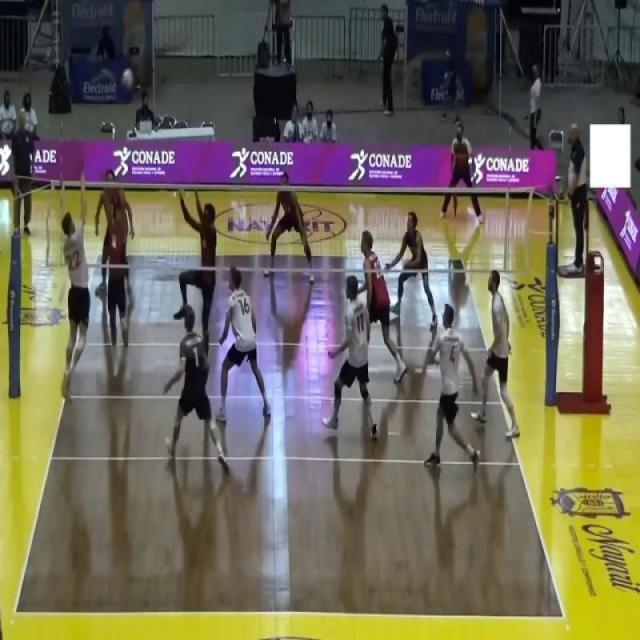volleyball: (121, 67, 135, 92)
